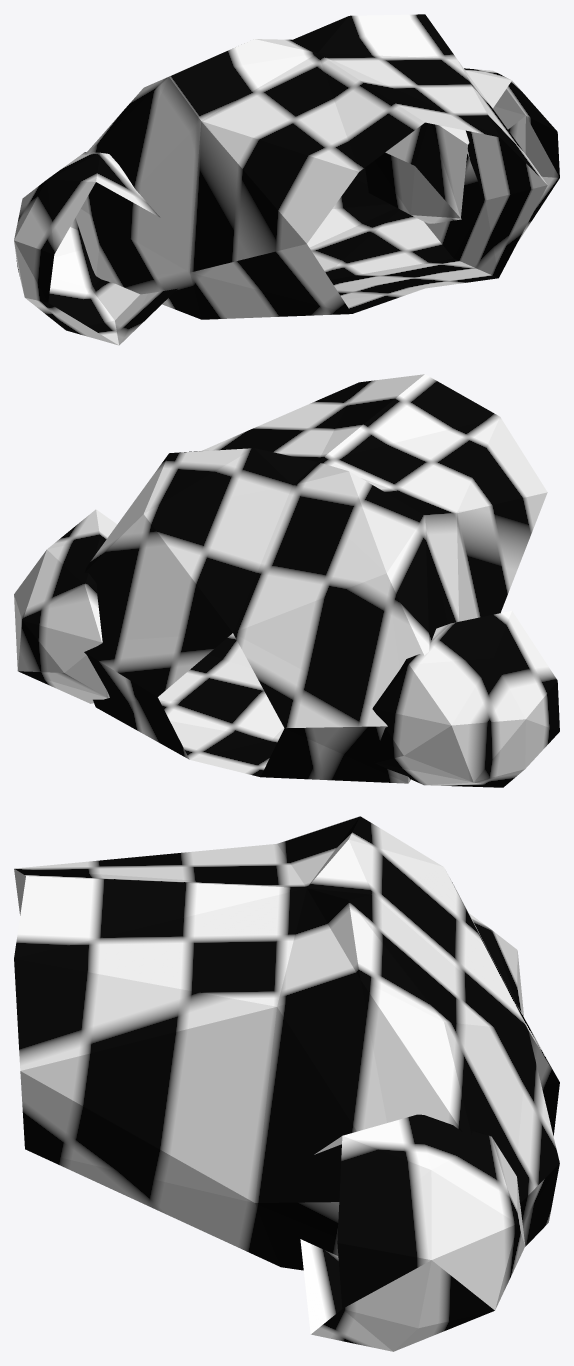
Rendered from initarsh4.dae.
3 renders of one model, top to bottom at view 1: azimuth 30°, elevation 25°; view 2: azimuth 150°, elevation 25°; view 3: azimuth 270°, elevation 25°, orthographic. The views are drawn at different scales.
Visible parts, largest first — view 1: armor; view 2: armor; view 3: armor.
Boxes of the visible parts, x1,y1,x2,y2 form: armor: [14, 14, 559, 345]; armor: [14, 374, 559, 787]; armor: [14, 816, 559, 1351].
Size of the model in its own units: 1.68 by 1.19 by 0.8258.
Materials: 1 (1 with a texture image).
